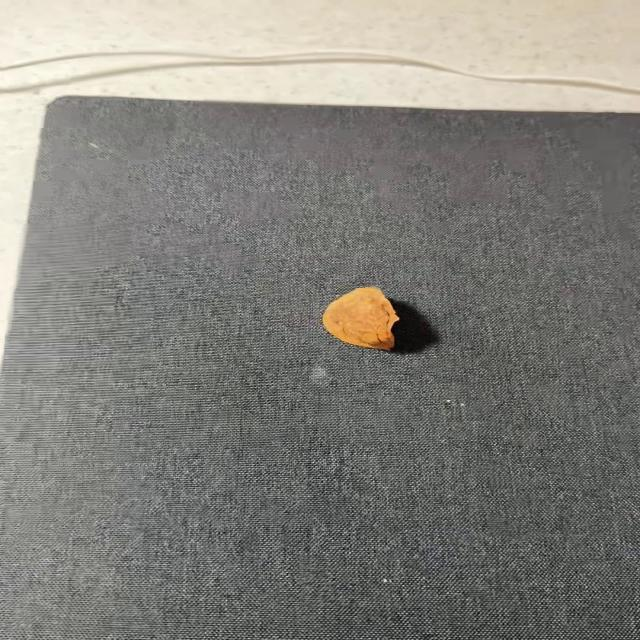nuts-bad0.25: (322, 287, 399, 350)
